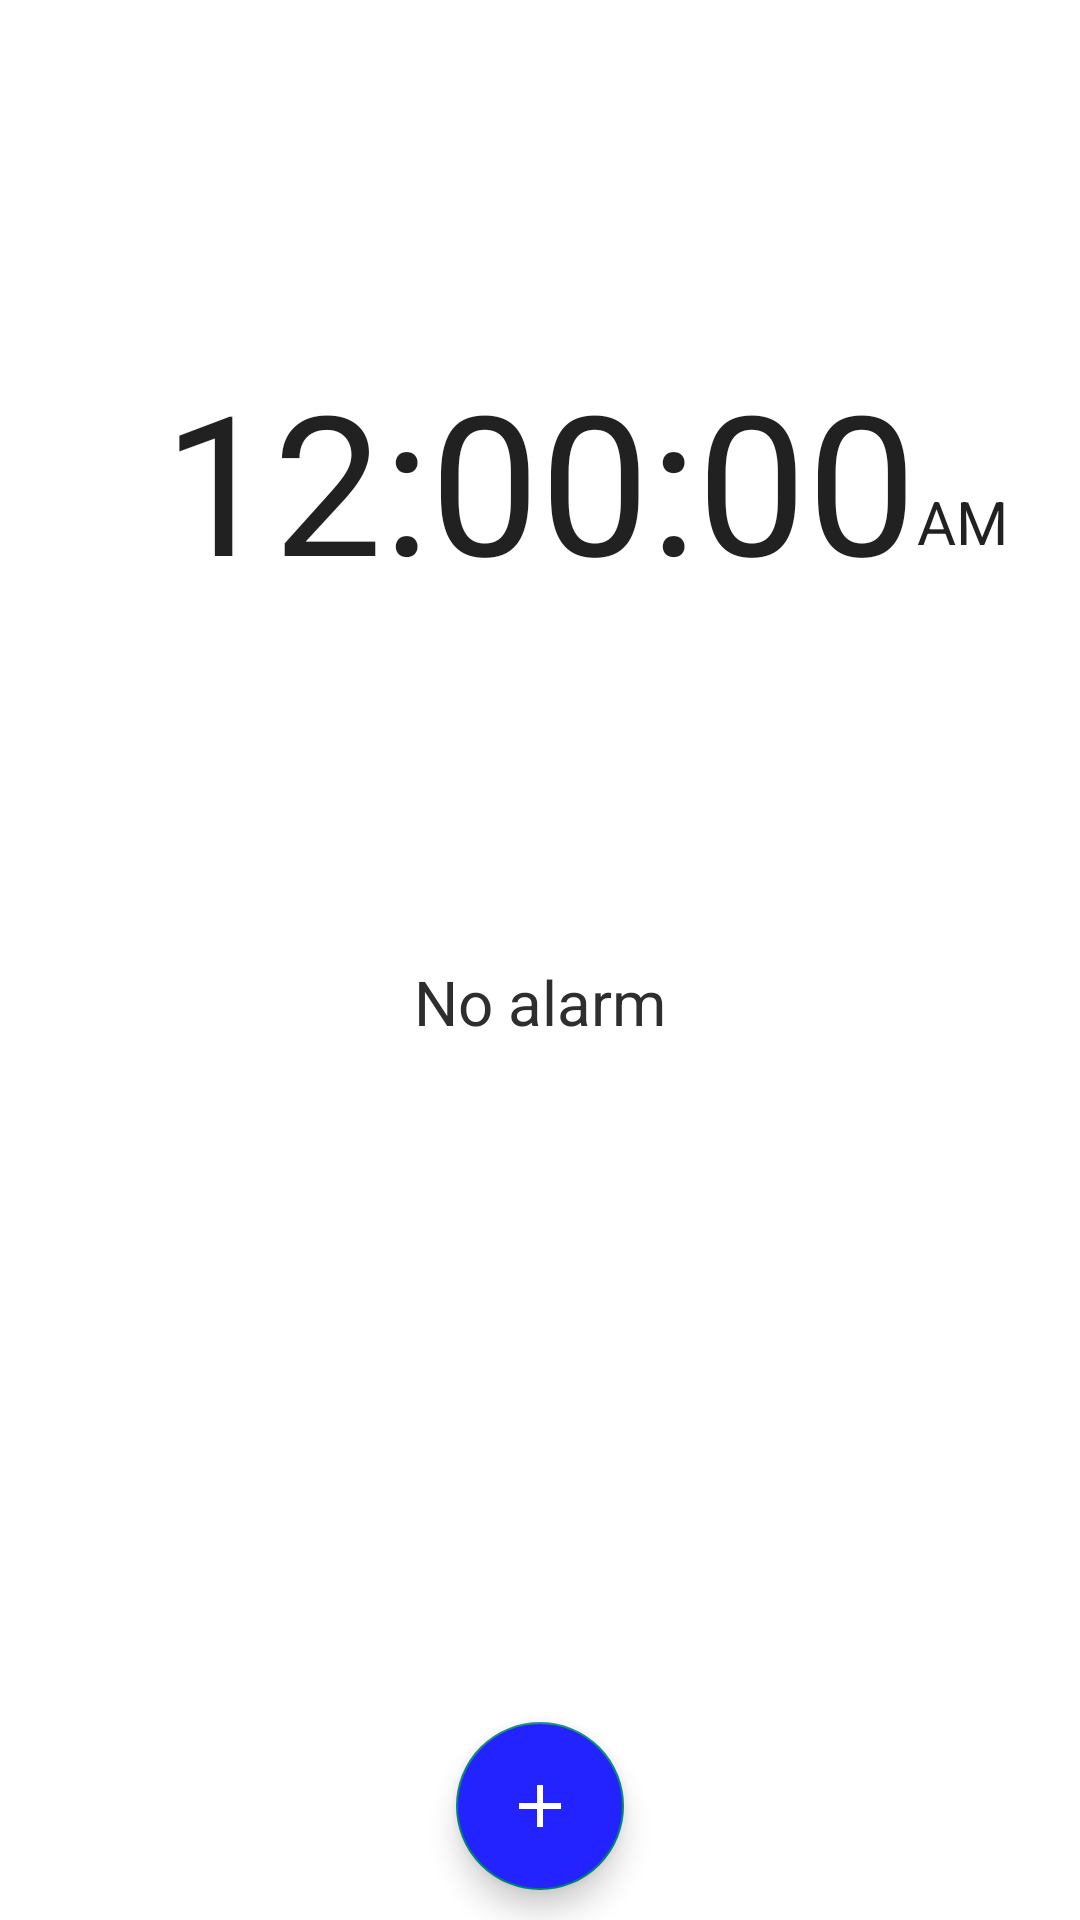

Screen size 1080w x 1920h. Icon name, then its box in pixels as rect(x1, y1, x2, y2):
plus: rect(456, 1722, 624, 1890)
